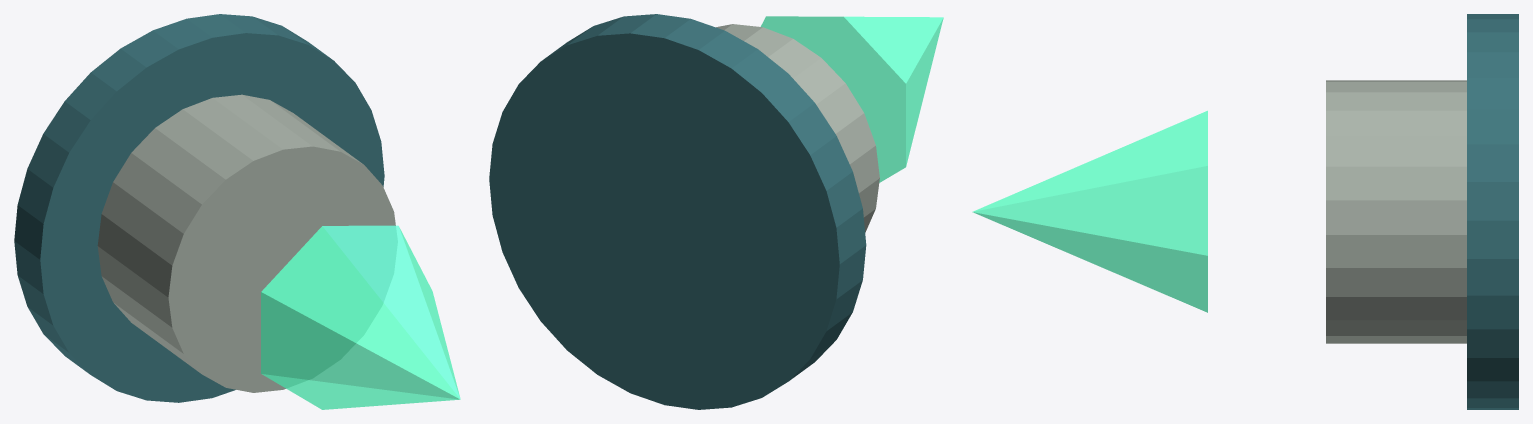
The model's file is 22_Leviathan_Shrine.glb.
3 views of the same model, side by side, from view 1: azimuth 30°, elevation 25°; view 2: azimuth 150°, elevation 25°; view 3: azimuth 270°, elevation 25° (orthographic). The views are drawn at different scales.
Parts seen in each view (by area): view 1: 22_Leviathan_Shrine_01, 22_Leviathan_Shrine_00, 22_Leviathan_Shrine_02; view 2: 22_Leviathan_Shrine_00, 22_Leviathan_Shrine_02, 22_Leviathan_Shrine_01; view 3: 22_Leviathan_Shrine_01, 22_Leviathan_Shrine_02, 22_Leviathan_Shrine_00.
Boxes of the visible parts, x1,y1,x2,y2 form: 22_Leviathan_Shrine_01: [97, 94, 397, 392]; 22_Leviathan_Shrine_00: [14, 14, 384, 402]; 22_Leviathan_Shrine_02: [261, 225, 460, 409]; 22_Leviathan_Shrine_00: [489, 14, 866, 409]; 22_Leviathan_Shrine_02: [760, 16, 943, 182]; 22_Leviathan_Shrine_01: [716, 24, 879, 232]; 22_Leviathan_Shrine_01: [1326, 80, 1466, 343]; 22_Leviathan_Shrine_02: [972, 110, 1207, 312]; 22_Leviathan_Shrine_00: [1467, 14, 1518, 409].
Bounding box in the file's own units: 4.2 × 4.2 × 5.8.
